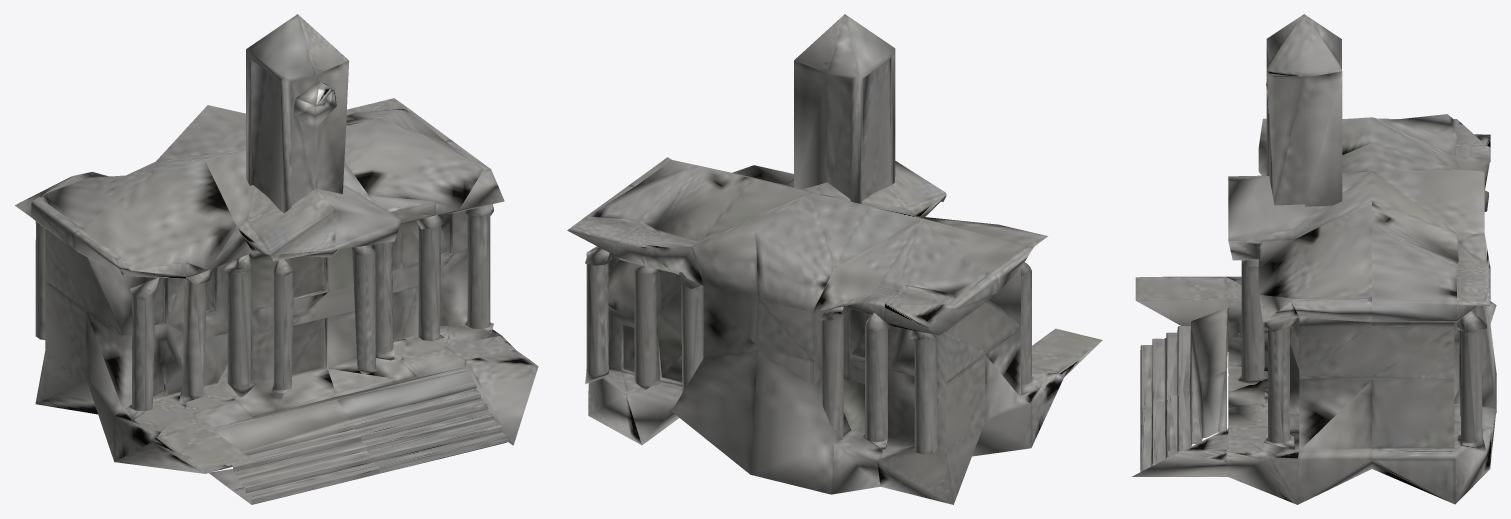
Rendered from 34-town-hall.glb.
The picture shows the model from 3 angles, left to right: view 1: azimuth 30°, elevation 25°; view 2: azimuth 150°, elevation 25°; view 3: azimuth 270°, elevation 25°; orthographic projection. The views are drawn at different scales.
Visible parts, largest first — view 1: geometry_0; view 2: geometry_0; view 3: geometry_0.
Part boxes in pixels (<box>): geometry_0: <box>15,14,538,504</box>; geometry_0: <box>567,14,1102,504</box>; geometry_0: <box>1132,14,1496,504</box>.
Bounding box in the file's own units: 0.9449 × 0.9502 × 0.7866.
Materials: 1 (1 with a texture image).
